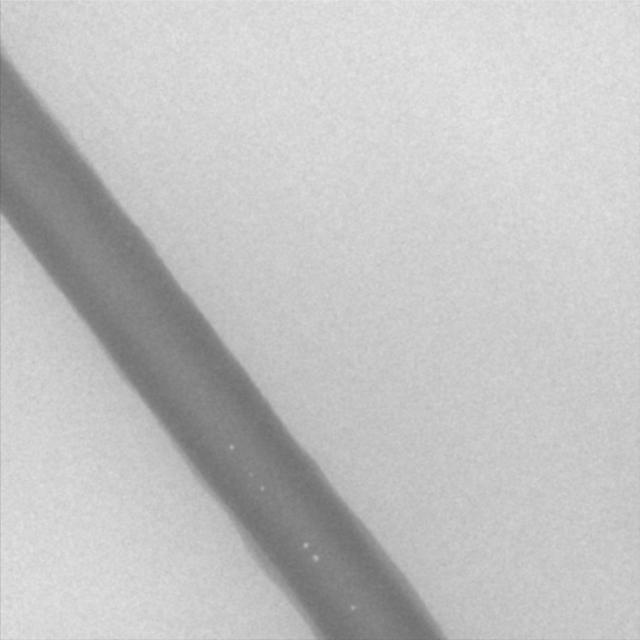air hole: (312, 552, 320, 564), (301, 540, 310, 549), (349, 603, 357, 613), (258, 484, 266, 493), (228, 443, 236, 451)
